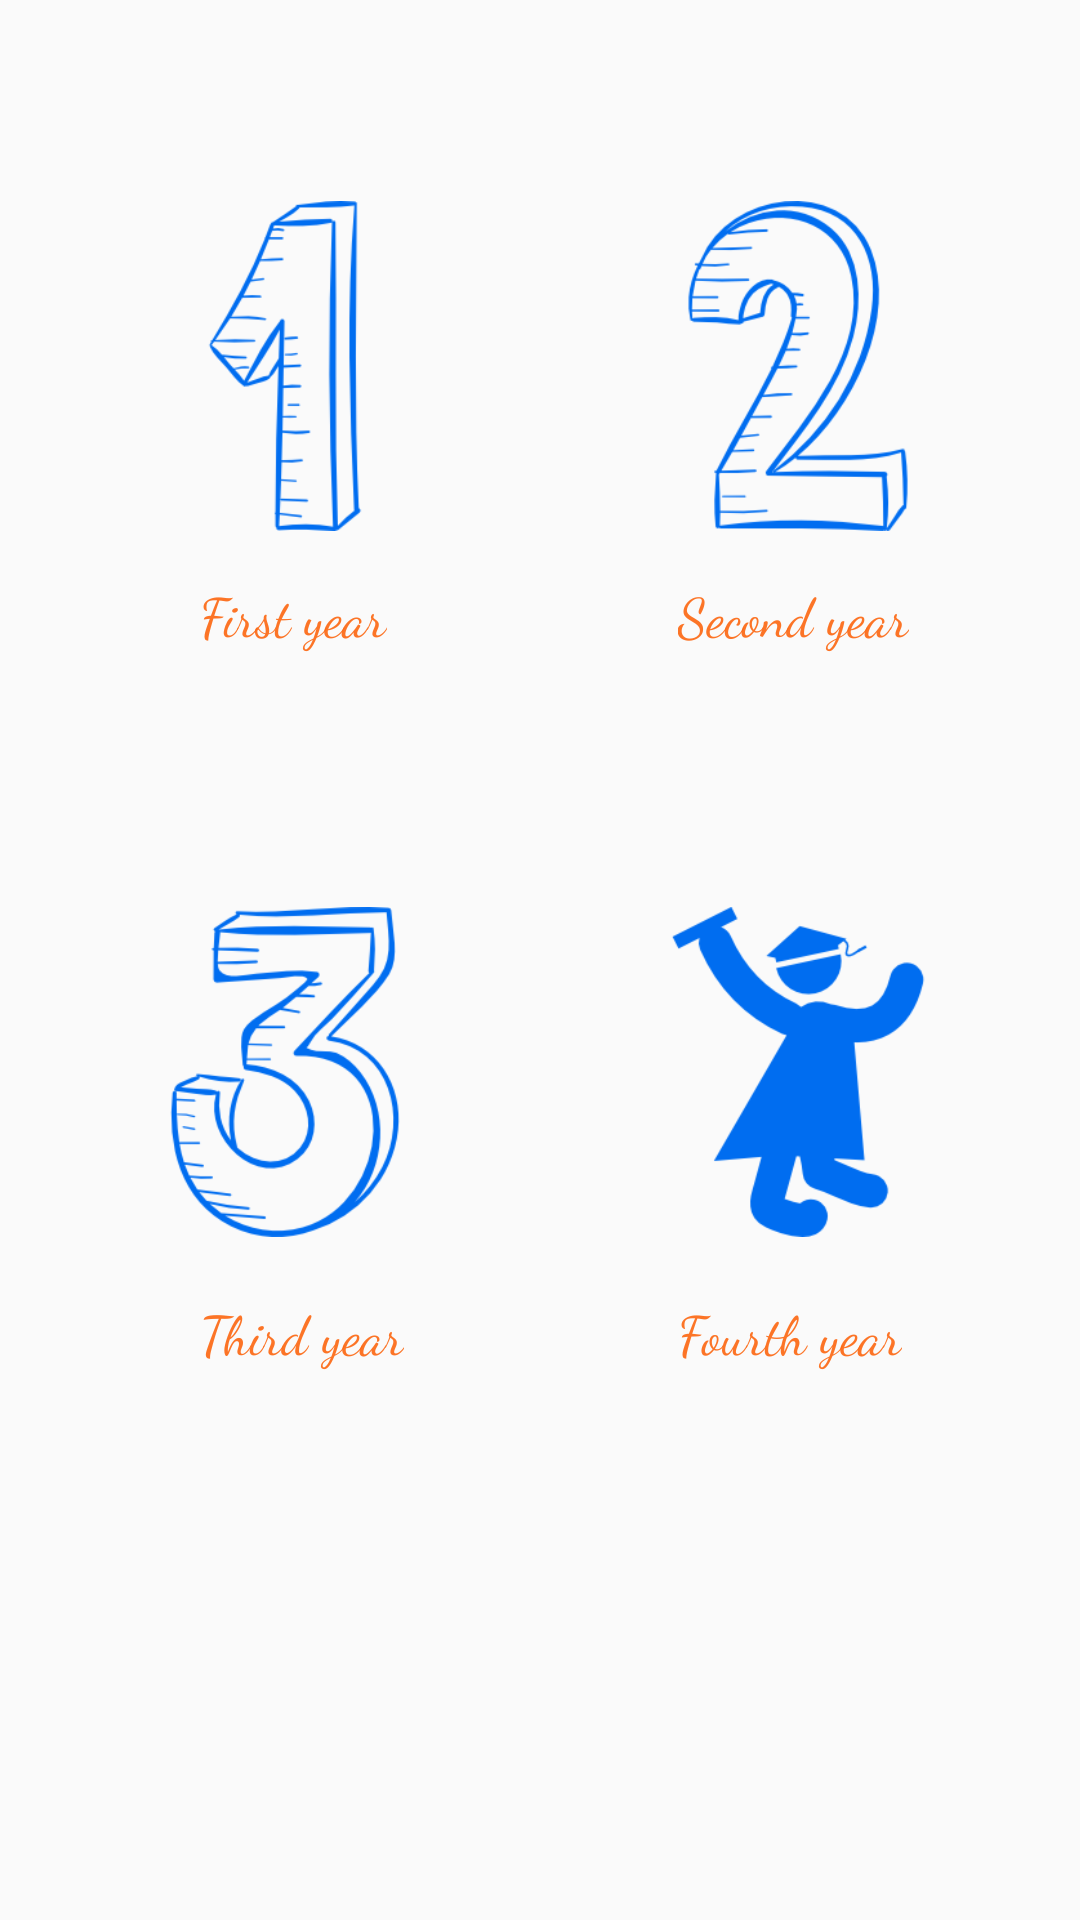

Icon bounding boxes for this 1080px×1920px phone screenshot, format (x1, y1, x2, y2):
finalsem: (672, 907, 925, 1237)
